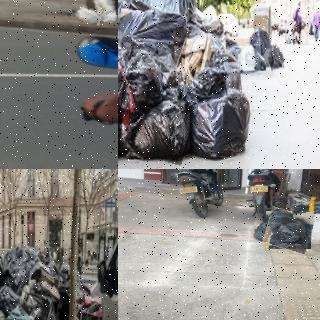Garbage: (187, 70, 252, 157), (126, 92, 195, 163), (118, 44, 160, 114), (264, 209, 313, 252), (252, 214, 280, 244), (90, 0, 118, 24), (291, 197, 320, 218), (71, 5, 103, 24), (2, 304, 38, 320), (262, 44, 283, 68), (249, 29, 270, 53)
